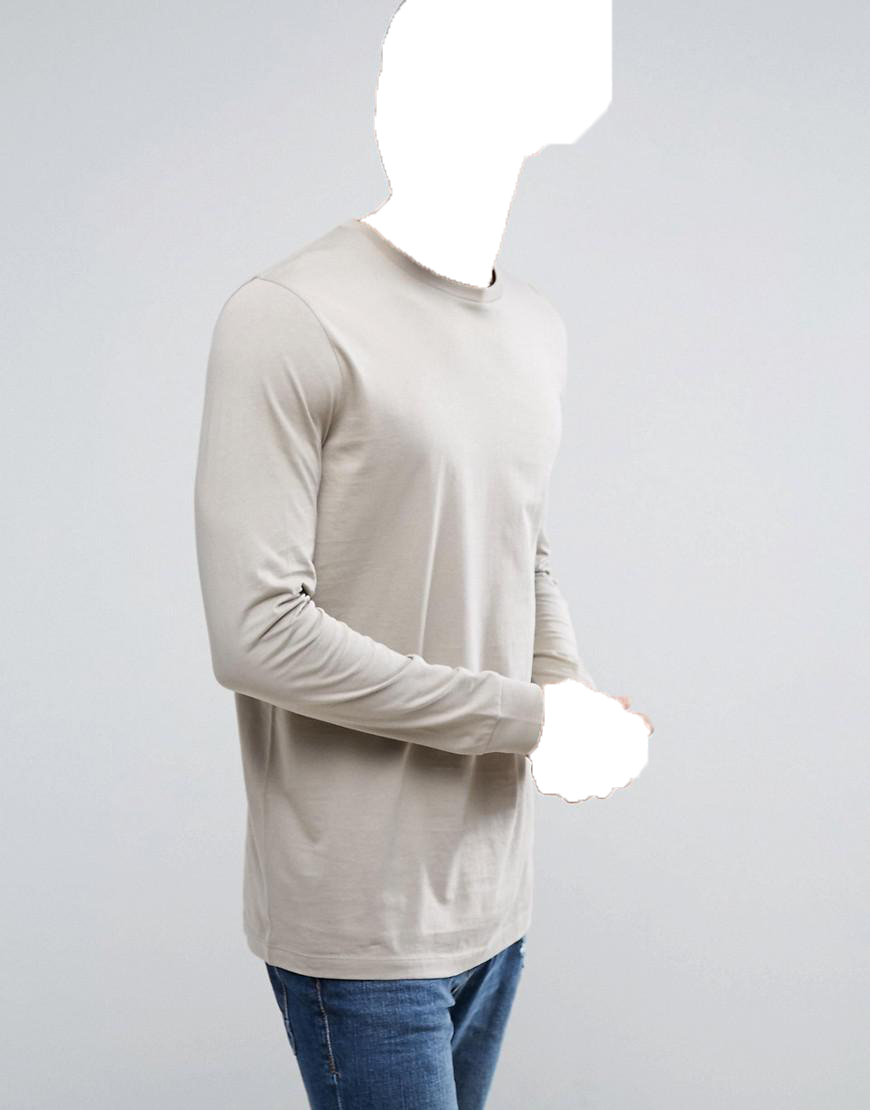teeshirt: (183, 220, 647, 981)
